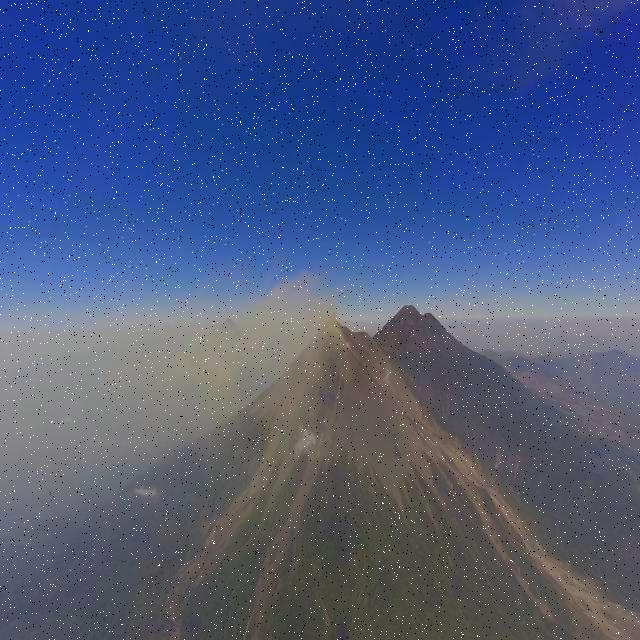Plume: (210, 266, 334, 427)
Summit: (317, 314, 345, 331)
